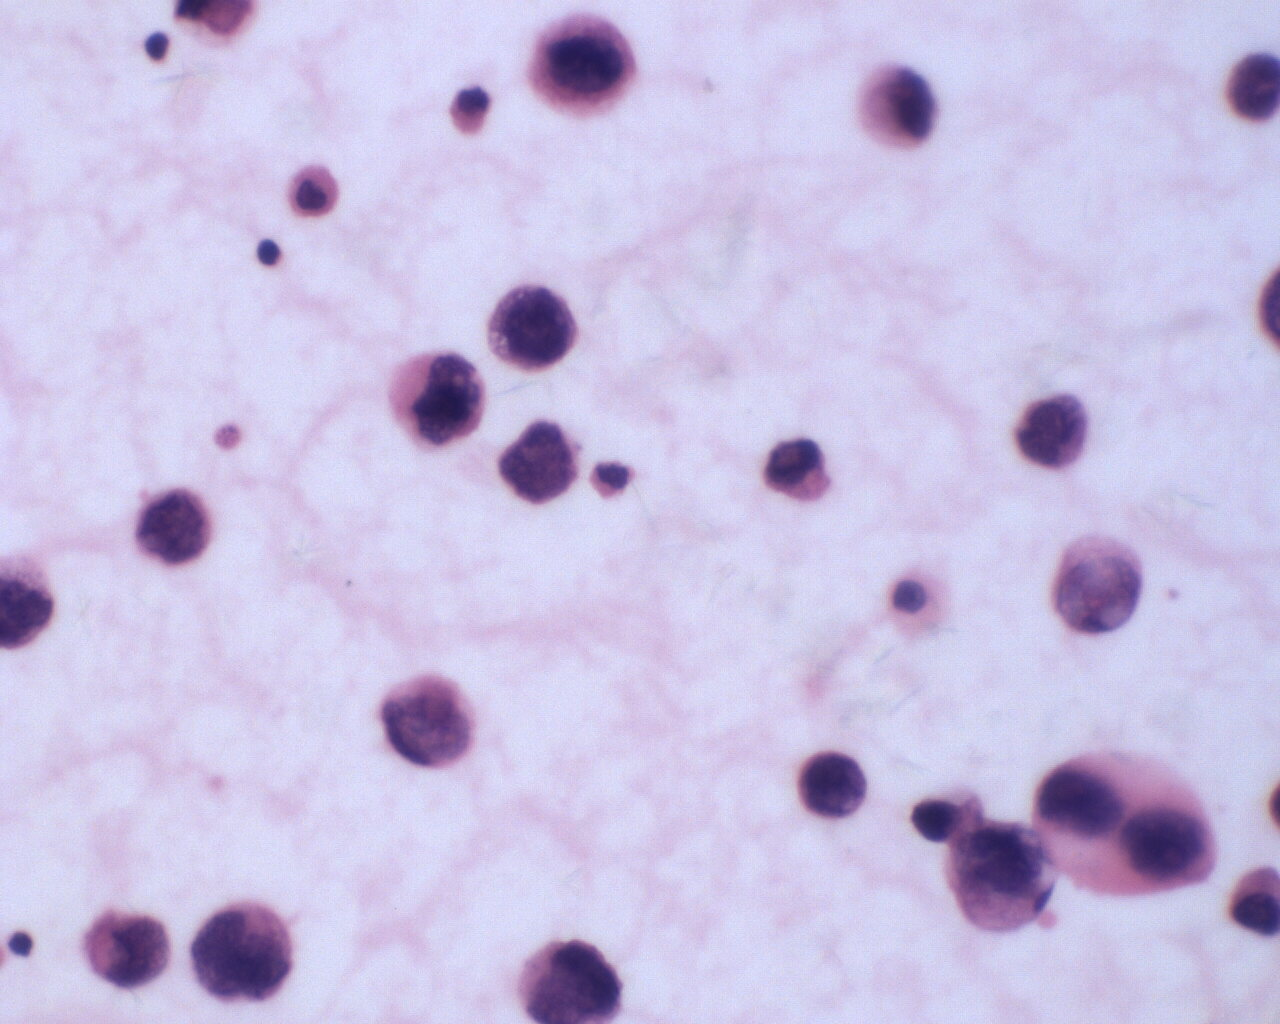ab: (939, 812, 1063, 932), (188, 893, 306, 1011), (522, 8, 642, 121), (377, 343, 494, 447), (486, 280, 583, 380), (75, 904, 171, 988), (1013, 389, 1094, 473), (793, 744, 871, 820)
meso: (1032, 731, 1227, 907), (280, 159, 344, 230)
